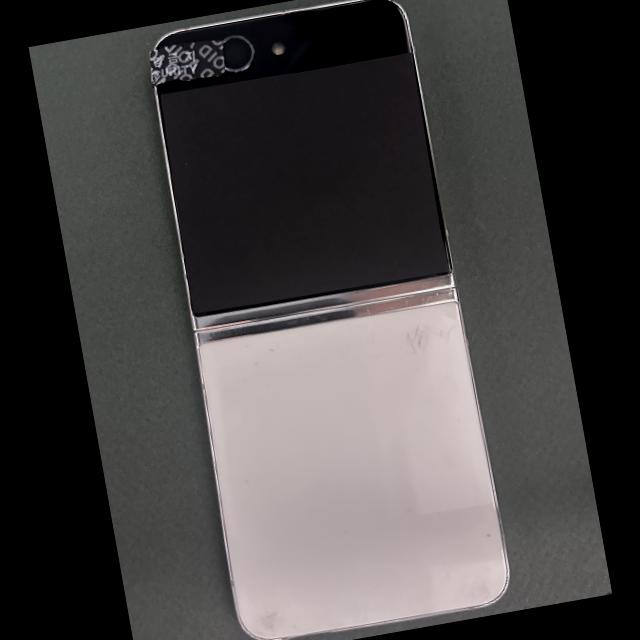lens: (221, 35, 254, 71)
phone: (151, 0, 508, 639)
sticker: (148, 39, 225, 91)
